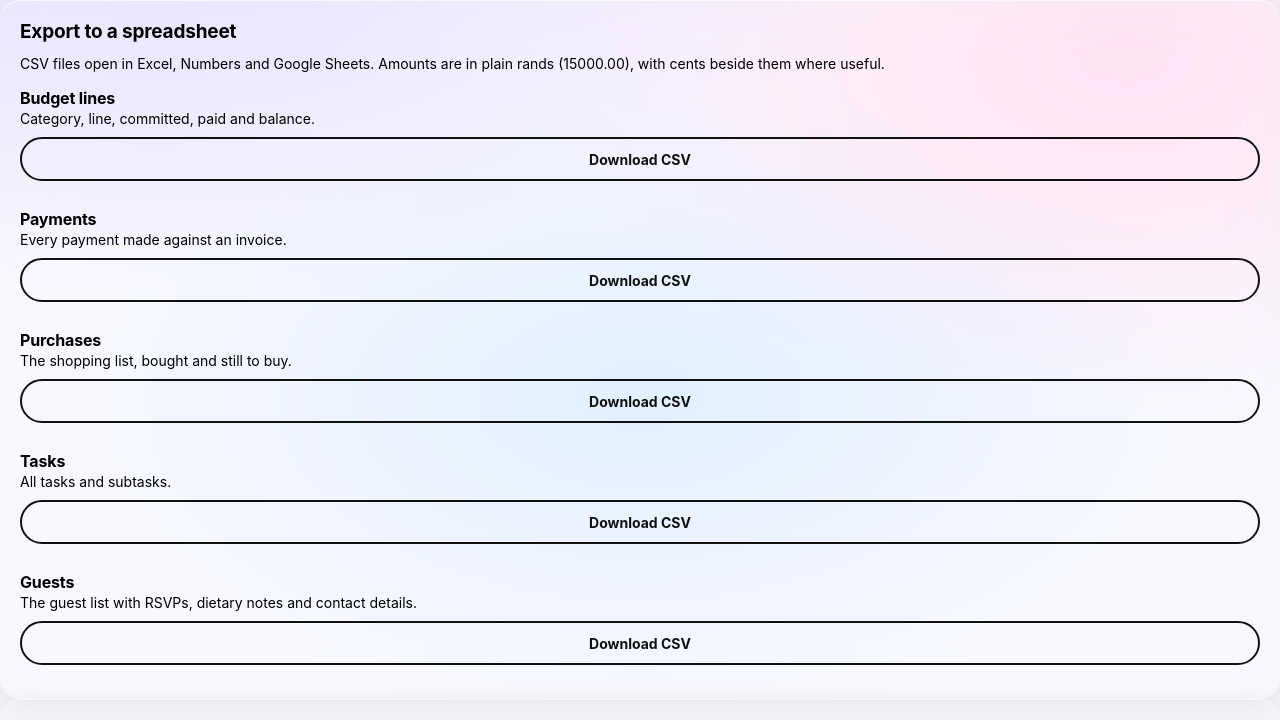
Test: warns when a table comes back at the 1000-row fetch cap
Click the button with aria-label "Download Guests CSV" at (640, 643), box [20,621,1260,665]
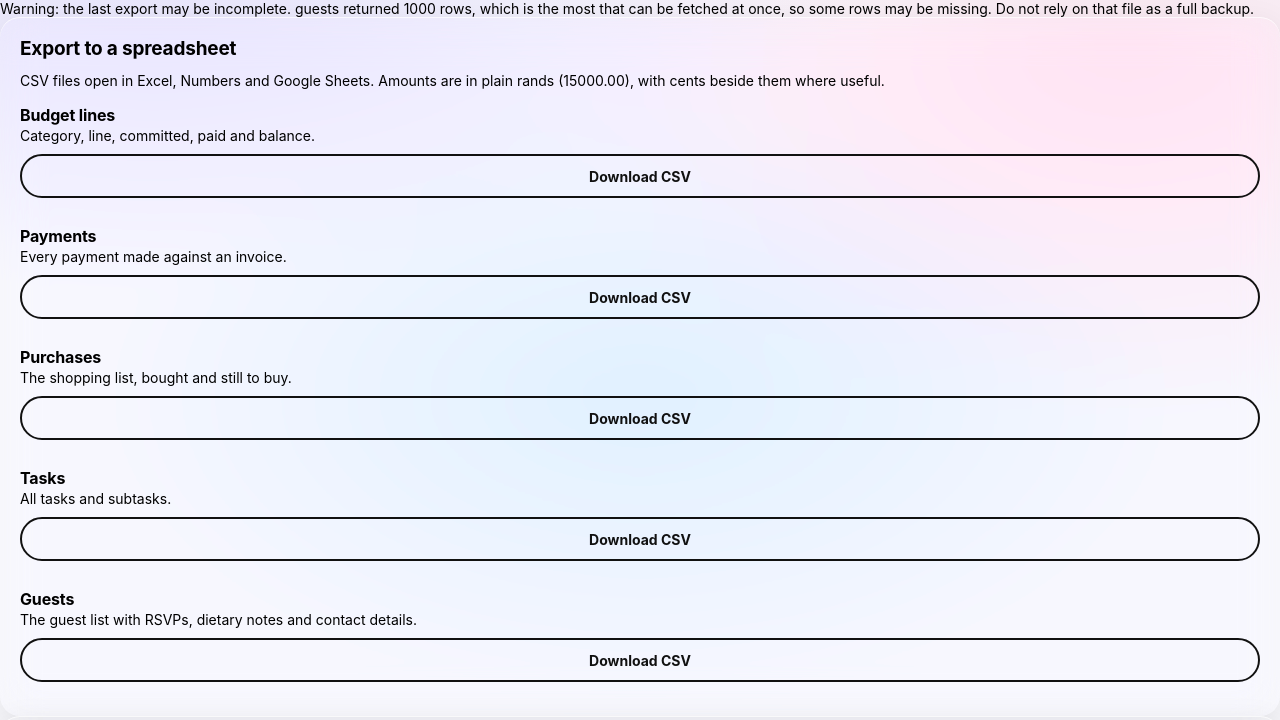
expect the message shows "may be incomplete": met, box [0,0,295,17]
